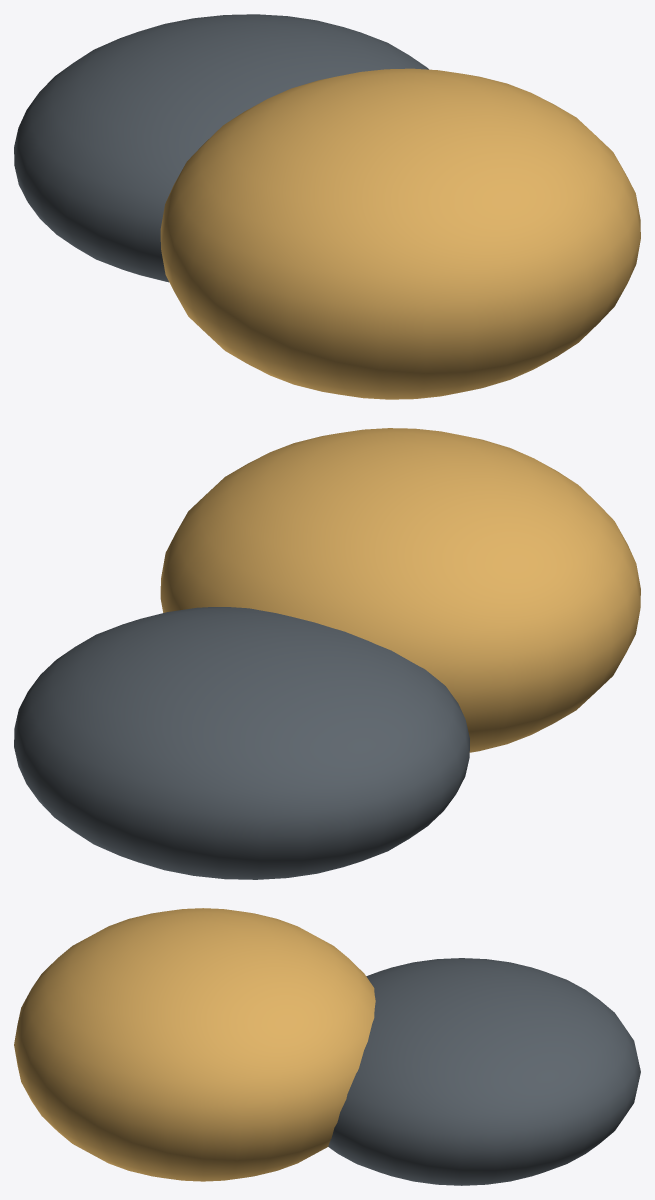
File: SM_Keeper_Ammit_Body.fbx
The picture shows the model from 3 angles, top to bottom: view 1: azimuth 30°, elevation 25°; view 2: azimuth 150°, elevation 25°; view 3: azimuth 270°, elevation 25°; orthographic projection. The views are drawn at different scales.
Parts seen in each view (by area): view 1: SM_Keeper_Ammit_Body; view 2: SM_Keeper_Ammit_Body; view 3: SM_Keeper_Ammit_Body.
Boxes of the visible parts, box(x1,y1,x2,y2) form: SM_Keeper_Ammit_Body: box(14, 14, 640, 399); SM_Keeper_Ammit_Body: box(14, 428, 640, 879); SM_Keeper_Ammit_Body: box(14, 908, 640, 1185).
Size of the model in its own units: 2 by 1.2 by 3.15.
